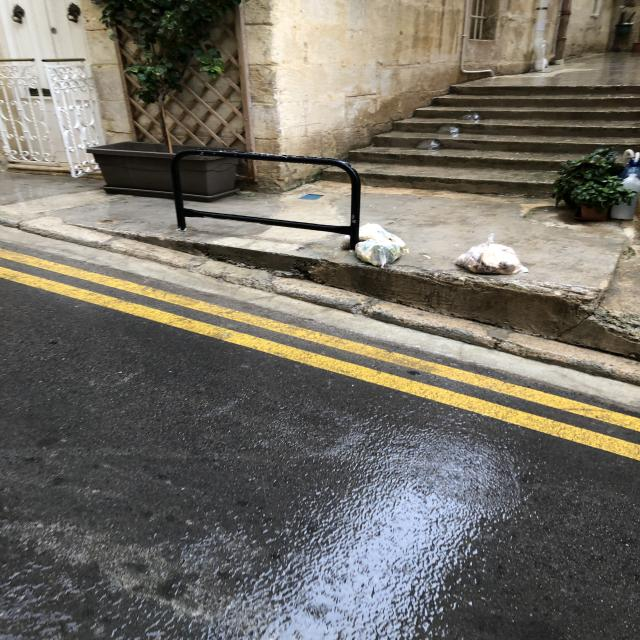Organic Waste -White Bag-: (354, 221, 409, 271), (454, 239, 522, 278)
